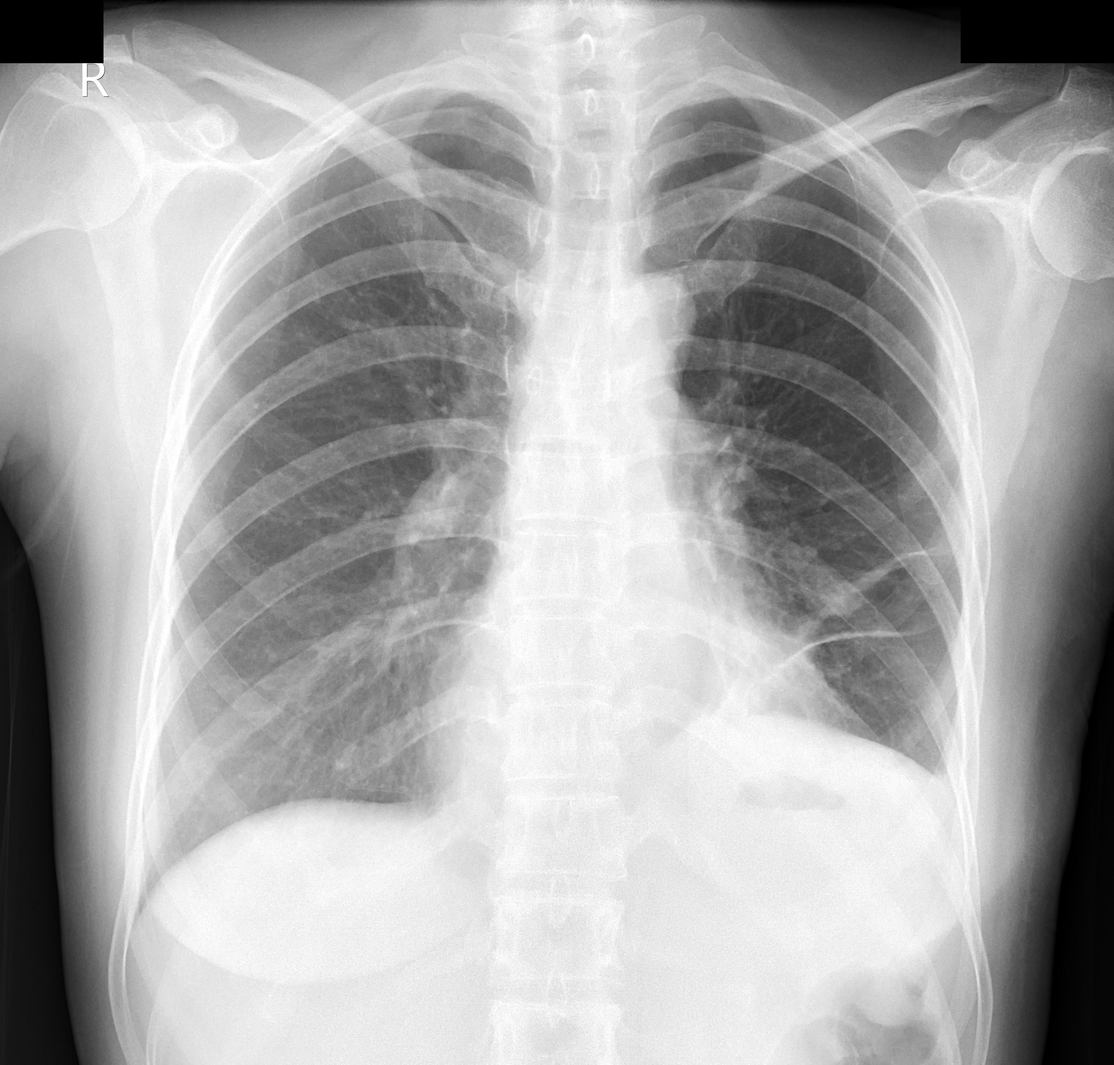Cardiomegaly: (413, 650, 871, 847)
Pulmonary fibrosis: (753, 531, 973, 683)
